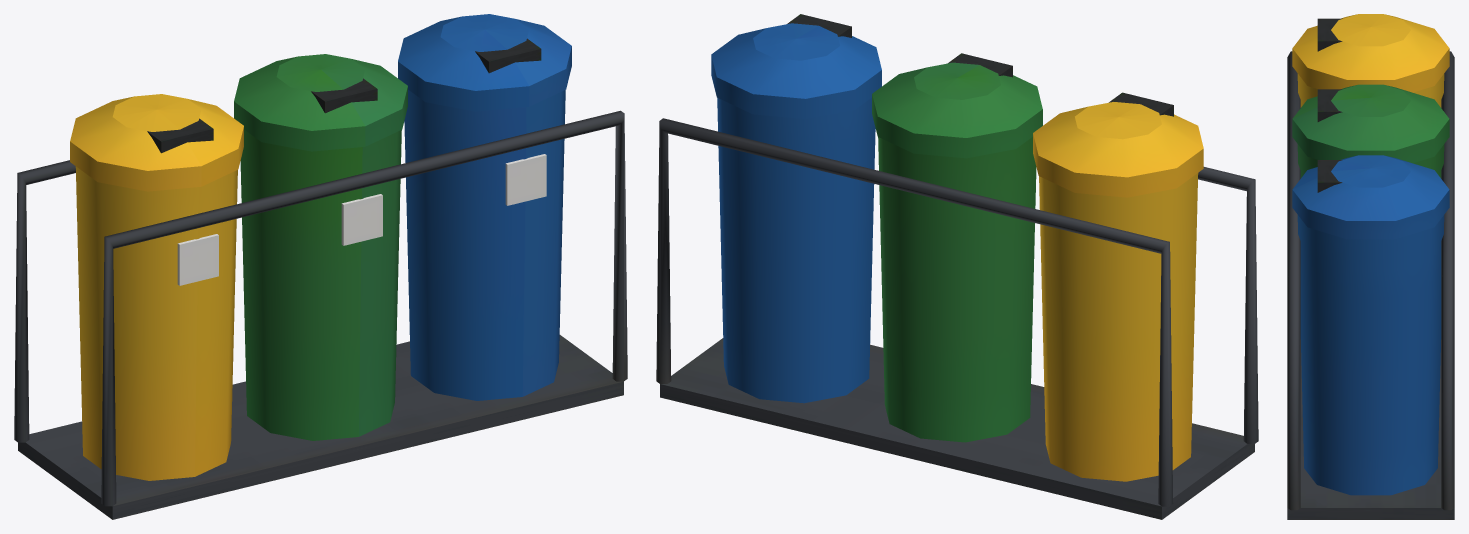
Rendered from poubelles_tri_lod1.glb.
The picture shows the model from 3 angles, left to right: view 1: azimuth 30°, elevation 25°; view 2: azimuth 150°, elevation 25°; view 3: azimuth 270°, elevation 25°; orthographic projection. The views are drawn at different scales.
Parts seen in each view (by area): view 1: poubelles_tri; view 2: poubelles_tri; view 3: poubelles_tri.
Part boxes in pixels (x1=…): poubelles_tri: x1=14, y1=14, x2=627, y2=519; poubelles_tri: x1=656, y1=14, x2=1258, y2=519; poubelles_tri: x1=1287, y1=14, x2=1454, y2=519.
Bounding box in the file's own units: 1.59 × 1.03 × 0.4999.
Materials: 1 (1 with a texture image).
